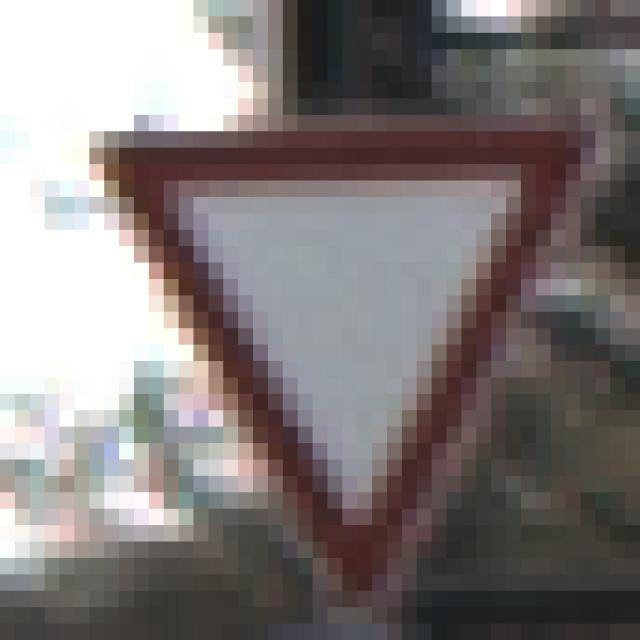Give Way: (90, 99, 567, 559)
